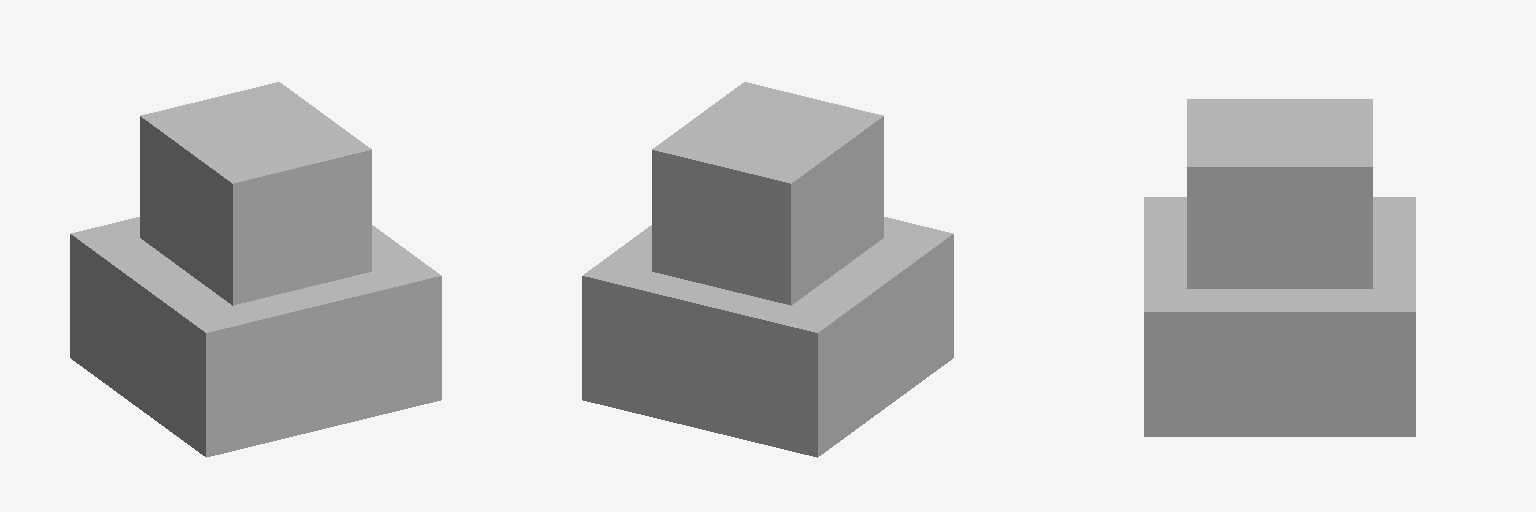
File: hitBoxBonhommeNeige.obj
3 views of the same model, side by side, from view 1: azimuth 30°, elevation 25°; view 2: azimuth 150°, elevation 25°; view 3: azimuth 270°, elevation 25° (orthographic).
Parts seen in each view (by area): view 1: hitBoxBonhommeNeige; view 2: hitBoxBonhommeNeige; view 3: hitBoxBonhommeNeige.
Part boxes in pixels (left/top/right/bottom): hitBoxBonhommeNeige: left=70, top=82, right=441, bottom=457; hitBoxBonhommeNeige: left=582, top=82, right=953, bottom=457; hitBoxBonhommeNeige: left=1144, top=99, right=1415, bottom=436.
Size of the model in its own units: 1 by 1 by 1.